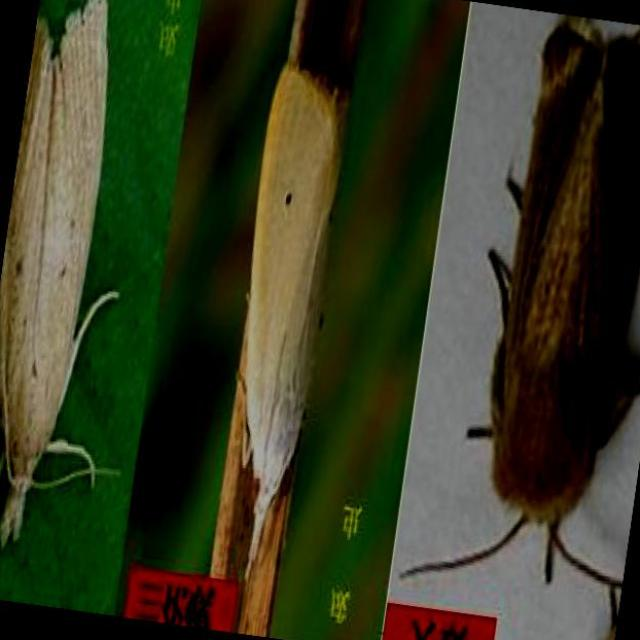stem borer: (401, 17, 640, 623), (213, 0, 347, 582), (0, 0, 118, 545)
